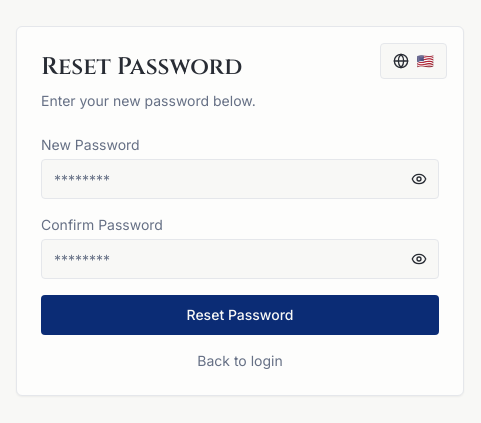
Test: ResetPassword page › shows validation error when passwords do not match
The width and height of the screenshot is (481, 423).
Type "StrongPass123!" into the password field labelled "New Password" at (240, 179), box [41,159,439,199]
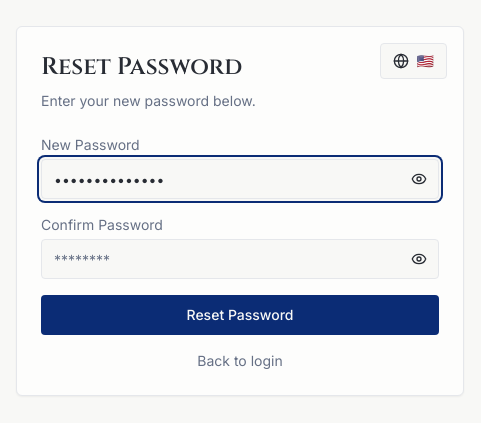
Type "DifferentPass123!" into the password field labelled "Confirm Password" at (240, 259), box [41,239,439,279]
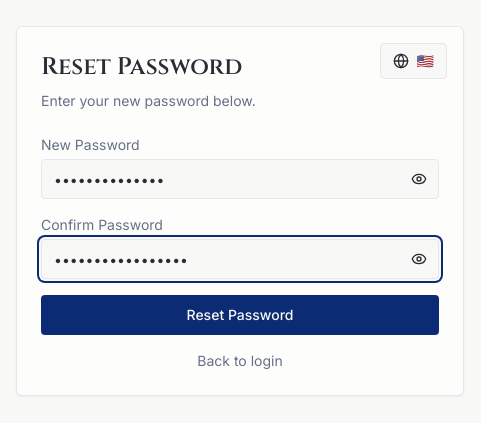
Click the button "Reset Password" at (240, 315), box [41,295,439,335]
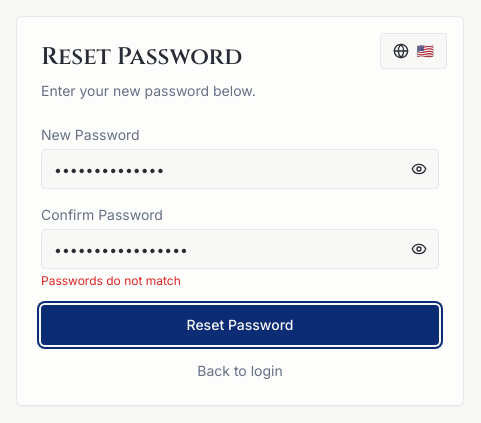
Expected: the text "Passwords do not match" is shown, [41,273,181,288]
